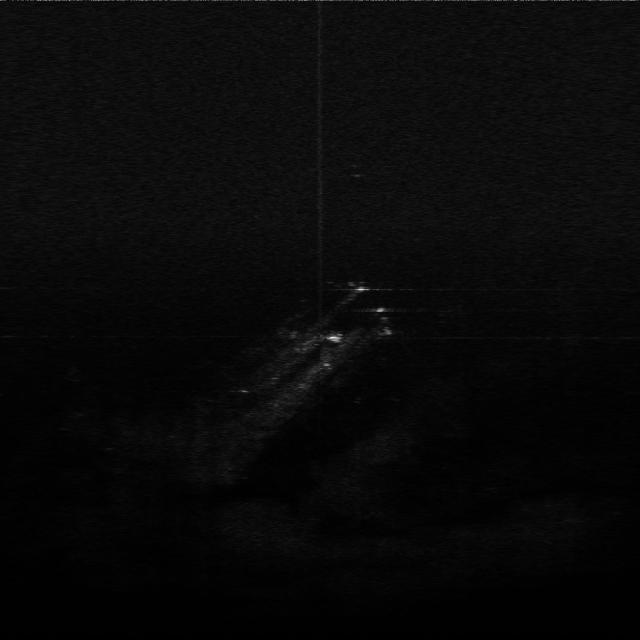rov: (321, 329, 348, 346)
